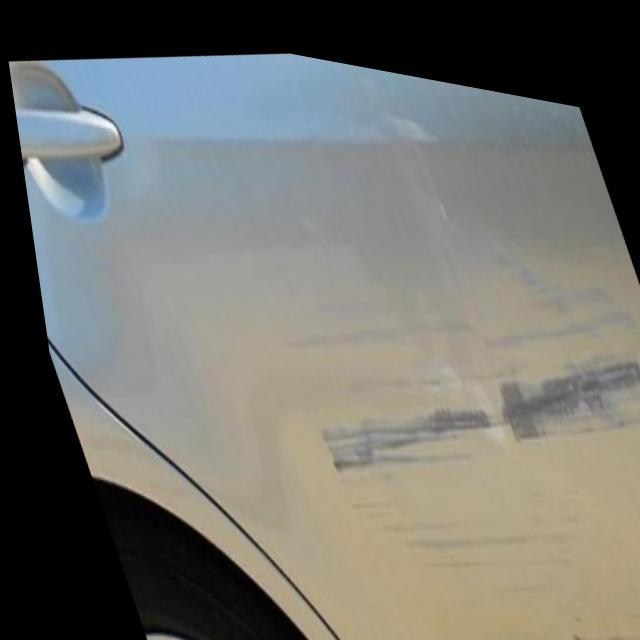rub: (280, 186, 640, 640)
